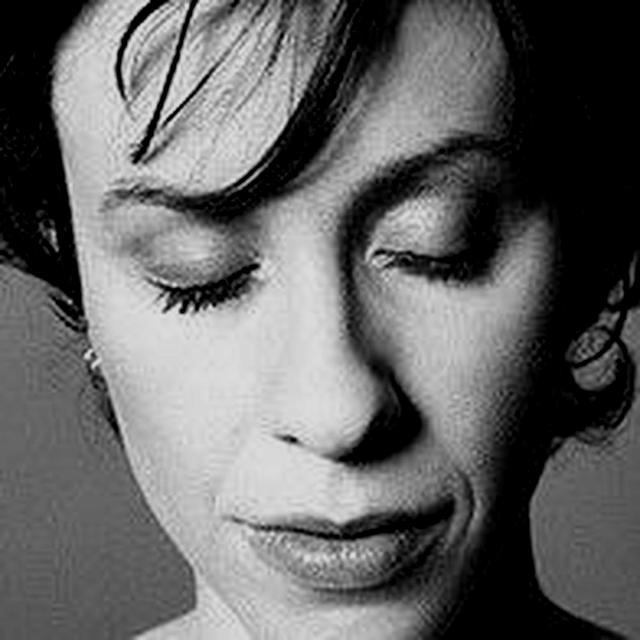real: (55, 1, 607, 640), (122, 176, 518, 322)
